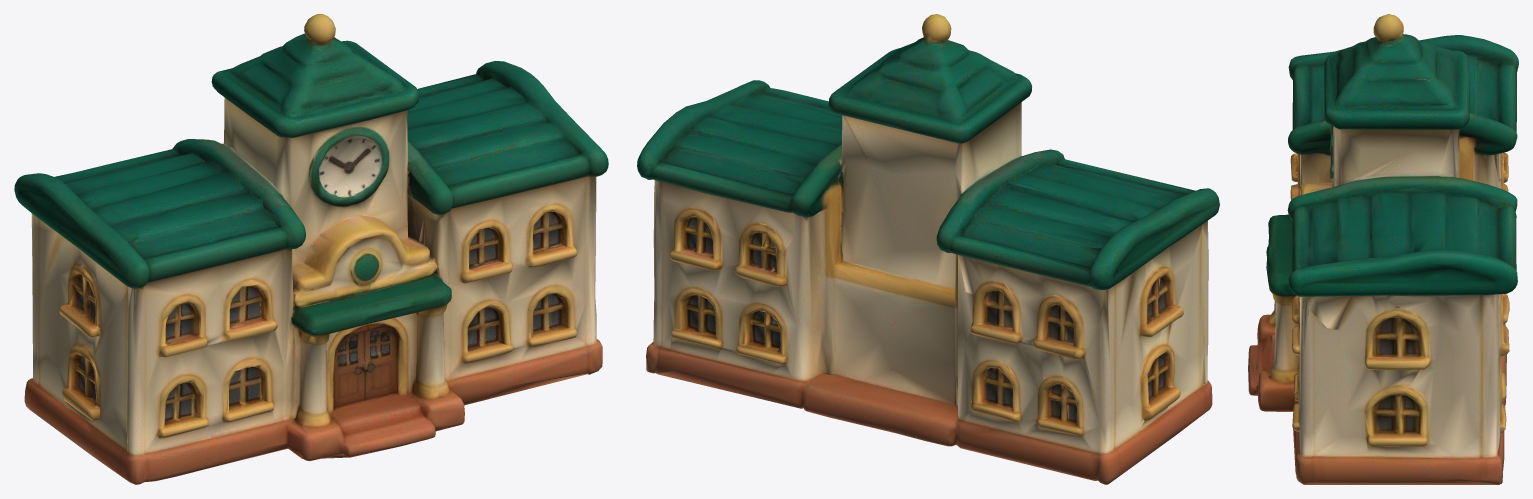
The model's file is building-school.glb.
3 views of the same model, side by side, from view 1: azimuth 30°, elevation 25°; view 2: azimuth 150°, elevation 25°; view 3: azimuth 270°, elevation 25° (orthographic). The views are drawn at different scales.
Visible parts, largest first — view 1: Mesh_0; view 2: Mesh_0; view 3: Mesh_0.
Part boxes in pixels (x1,y1,x2,y2): Mesh_0: [14, 14, 608, 484]; Mesh_0: [637, 14, 1219, 484]; Mesh_0: [1248, 14, 1518, 484].
Size of the model in its own units: 2 by 1.51 by 1.02.
1 material, 1 textured.
